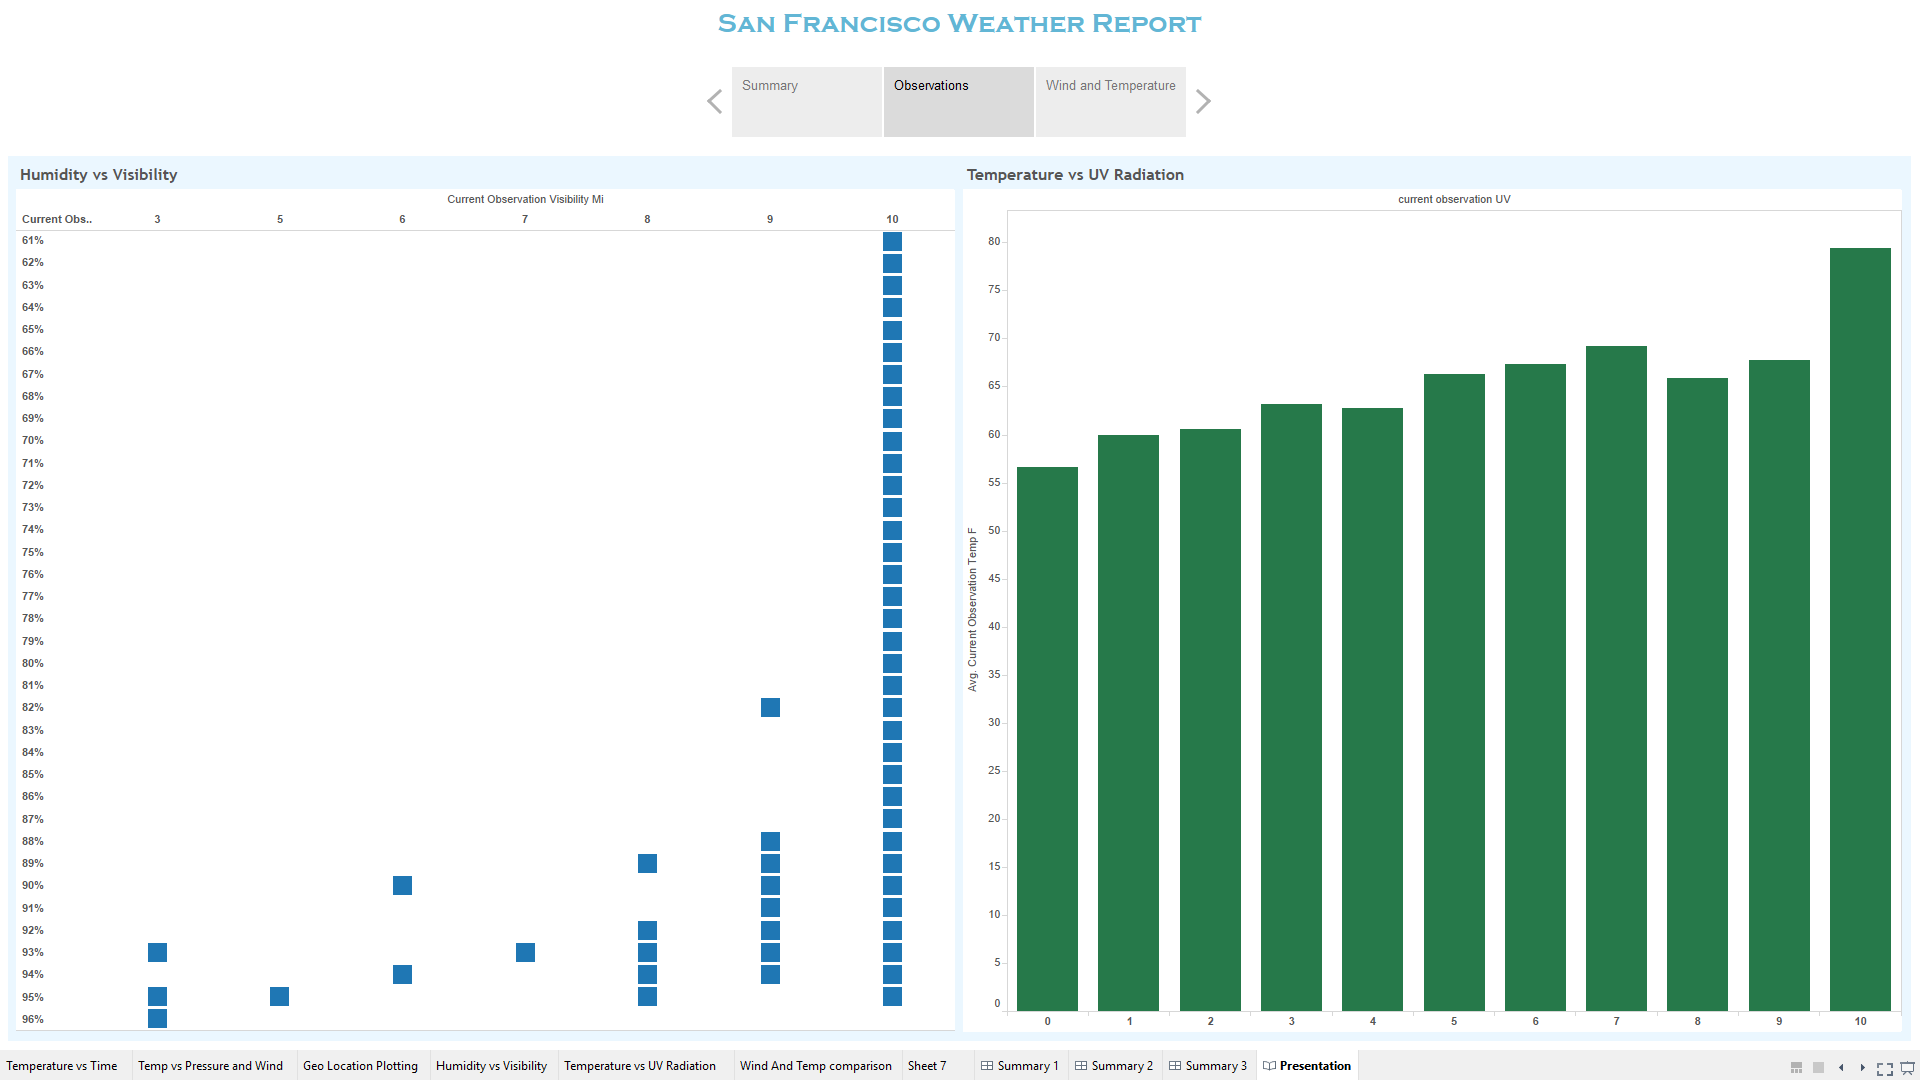

What the dashboard file says about the page in this screenshot:
{"tool":"tableau","page":{"name":"Summary 2","canvas":[1000,1000],"units":"permille","ordinal":1},"visuals":[{"type":"worksheet","title":"Humidity vs Visibility","mark":"Square","rows":["current_observation_relative_humidity"],"cols":["current_observation_visibility_mi"],"box":[0,0,500,1000]},{"type":"worksheet","title":"Temperature vs UV Radiation","mark":"Square","rows":["current_observation_temp_f"],"cols":["current_observation_UV"],"box":[500,0,500,1000]}]}

Visuals, with their boxes on the dashboard's canvas, which has no fixed pixel size, in thousandths of its width and height (x1, y1, x2, y2). These are canvas units, not pixel positions in the 1920x1080 screenshot, which may show the page scaled, cropped or inside an application window:
"Humidity vs Visibility" worksheet (Square marks): 0, 0, 500, 1000
"Temperature vs UV Radiation" worksheet (Square marks): 500, 0, 1000, 1000
